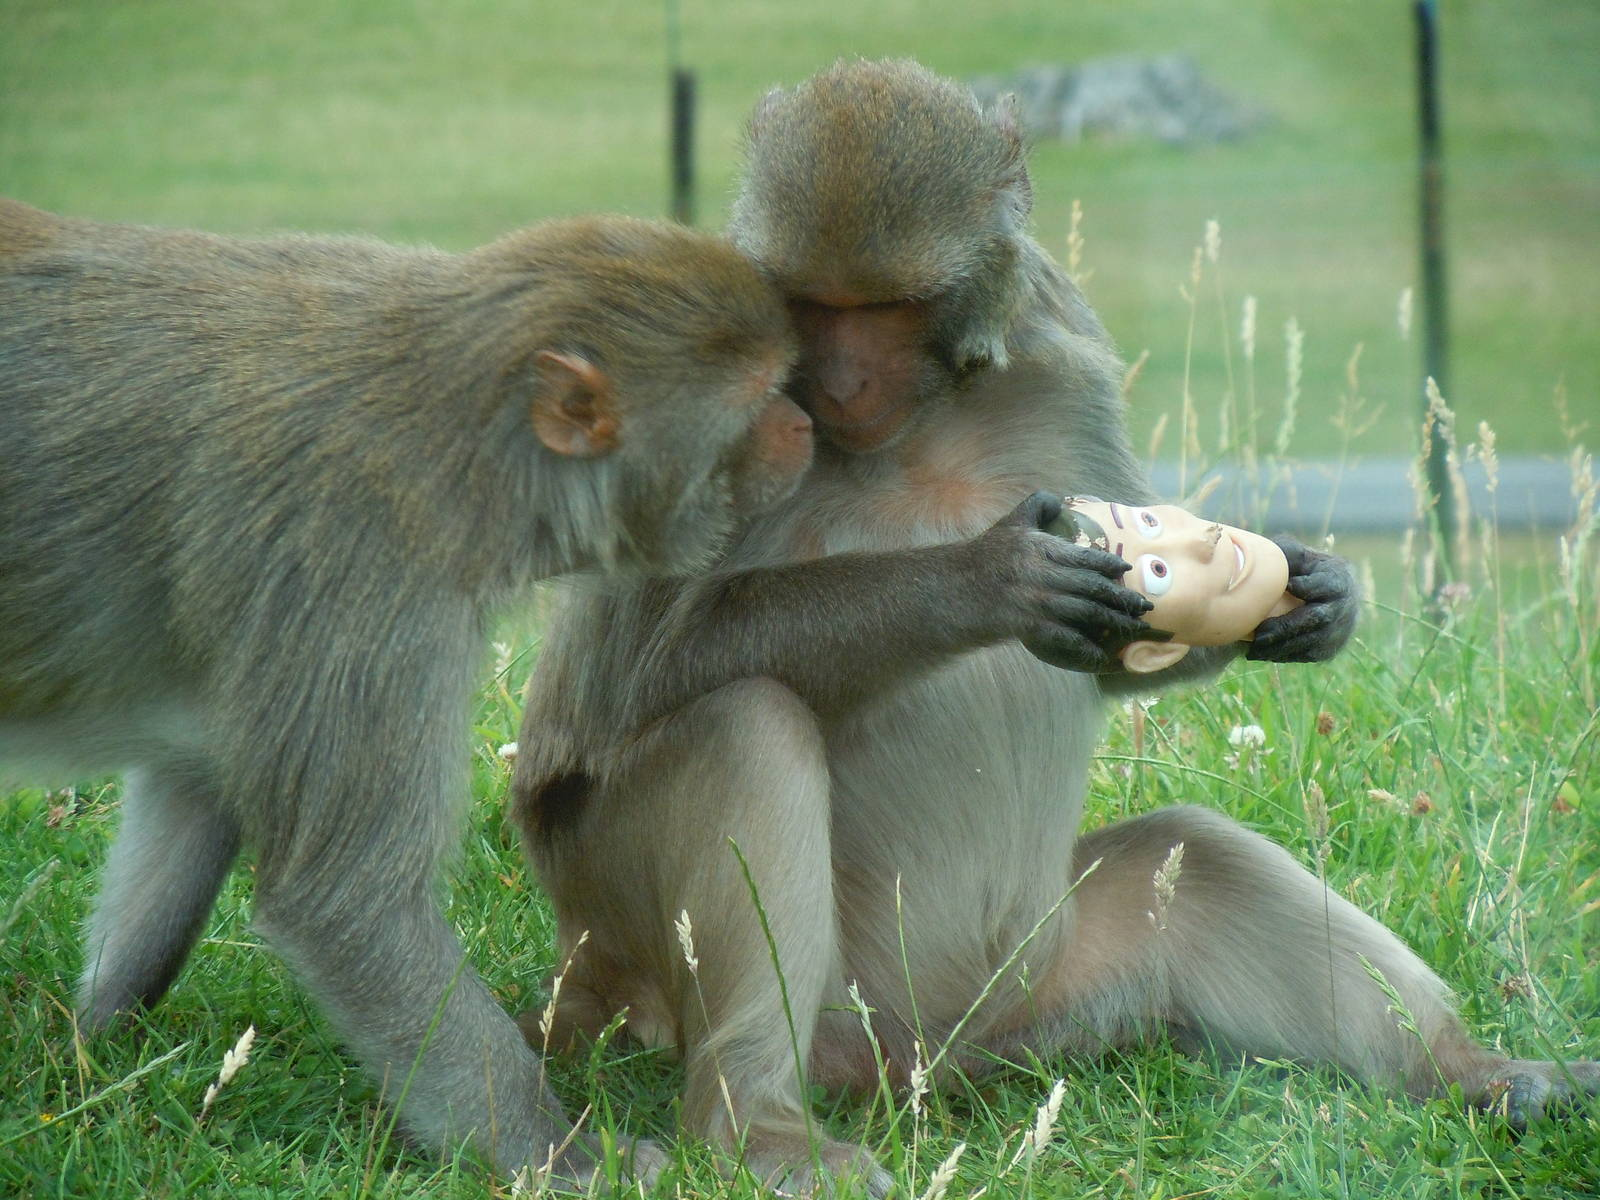monkey: (504, 45, 1511, 1189), (1, 168, 855, 1192)
